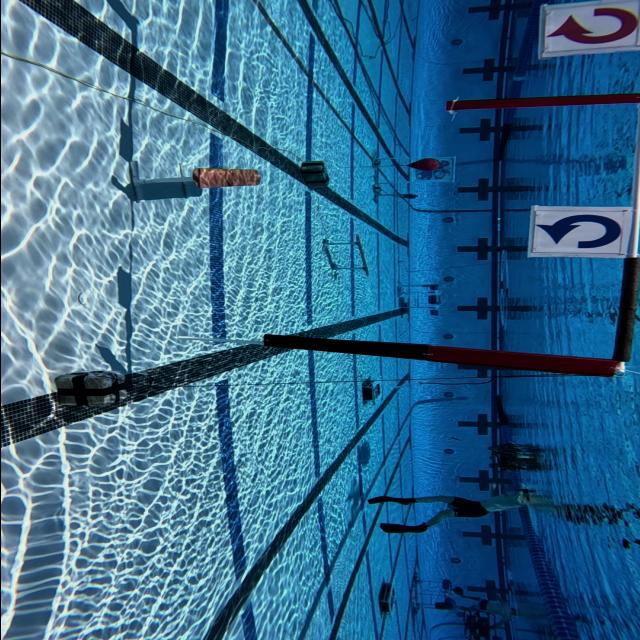blue_side: (519, 203, 637, 256)
red_side: (532, 0, 640, 56)
